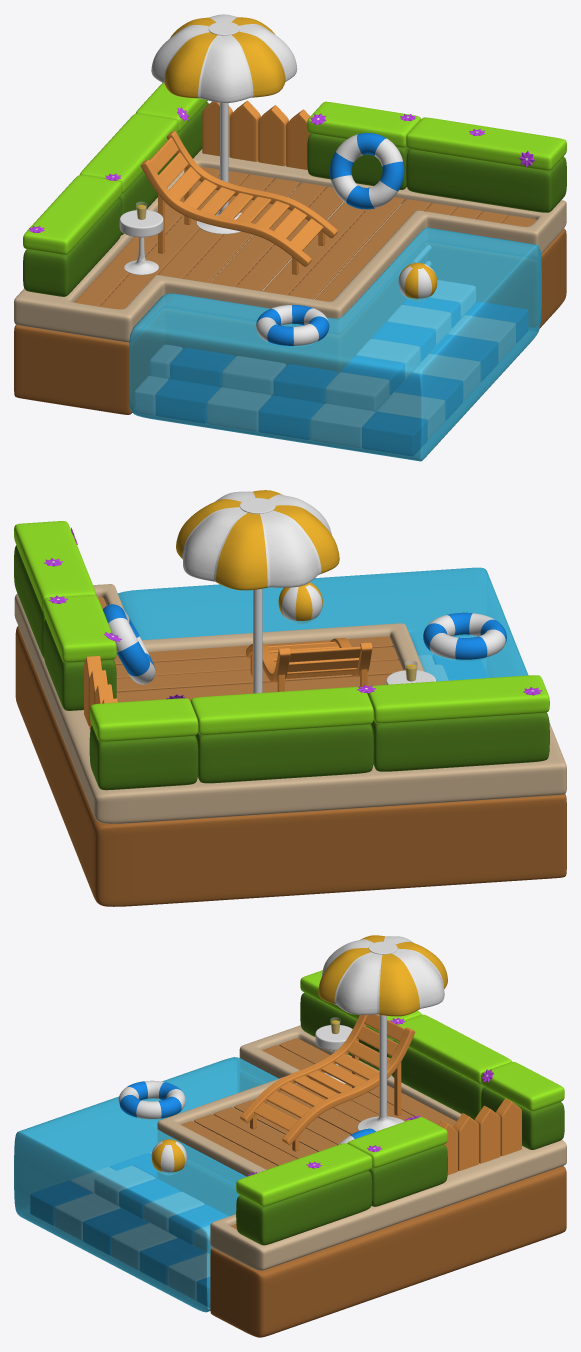
3 views of the same model, one above another, from view 1: azimuth 30°, elevation 25°; view 2: azimuth 150°, elevation 25°; view 3: azimuth 270°, elevation 25° (orthographic). The views are drawn at different scales.
Visible parts, largest first — view 1: PoolWaterSurface, Cube.050, Cube.049, Cube.048, Cube.027, Cube.025, Cube.028, Cube.038, Cube.026, Cylinder.044, Cube.037, Cube.023 (+25 smaller); view 2: Cube.050, Cube.049, PoolWaterSurface, Cube.047, Cube.045, Cube.048, Cube.044, Cylinder.044, Cube.046, Cylinder.028, Cube.043, Cube.037 (+16 smaller); view 3: PoolWaterSurface, Cube.050, Cube.049, Cube.048, Cube.038, Cube.023, Cube.027, Cube.025, Cylinder.044, Cube.037, Cylinder.028, Cube.044 (+22 smaller).
Boxes of the visible parts, bbox=[...] form: PoolWaterSurface: bbox=[129, 227, 541, 461]; Cube.050: bbox=[14, 228, 566, 414]; Cube.049: bbox=[14, 149, 566, 342]; Cube.048: bbox=[74, 167, 536, 309]; Cube.027: bbox=[156, 302, 527, 455]; Cube.025: bbox=[135, 315, 515, 447]; Cube.028: bbox=[150, 280, 475, 410]; Cube.038: bbox=[406, 149, 566, 212]; Cube.026: bbox=[170, 298, 459, 402]; Cylinder.044: bbox=[151, 14, 297, 103]; Cube.037: bbox=[406, 117, 566, 170]; Cube.023: bbox=[150, 137, 323, 250]; Cube.050: bbox=[15, 626, 566, 906]; Cube.049: bbox=[14, 584, 566, 823]; PoolWaterSurface: bbox=[118, 567, 528, 681]; Cube.047: bbox=[371, 712, 549, 771]; Cube.045: bbox=[195, 724, 373, 783]; Cube.048: bbox=[97, 596, 402, 702]; Cube.044: bbox=[190, 687, 373, 734]; Cylinder.044: bbox=[182, 491, 331, 587]; Cube.046: bbox=[367, 675, 549, 723]; Cylinder.028: bbox=[176, 490, 339, 590]; Cube.043: bbox=[89, 725, 198, 790]; Cube.037: bbox=[14, 521, 96, 610]; PoolWaterSurface: bbox=[14, 1057, 278, 1312]; Cube.050: bbox=[158, 1074, 566, 1337]; Cube.049: bbox=[157, 1025, 566, 1270]; Cube.048: bbox=[181, 1038, 456, 1229]; Cube.038: bbox=[236, 1170, 372, 1245]; Cube.023: bbox=[254, 1014, 404, 1130]; Cube.027: bbox=[31, 1154, 209, 1307]; Cube.025: bbox=[55, 1152, 209, 1299]; Cylinder.044: bbox=[321, 936, 444, 1014]; Cube.037: bbox=[236, 1143, 372, 1206]; Cylinder.028: bbox=[318, 935, 447, 1016]; Cube.044: bbox=[393, 1014, 512, 1083].
Bounding box in the file's own units: 10 × 5.35 × 10.
